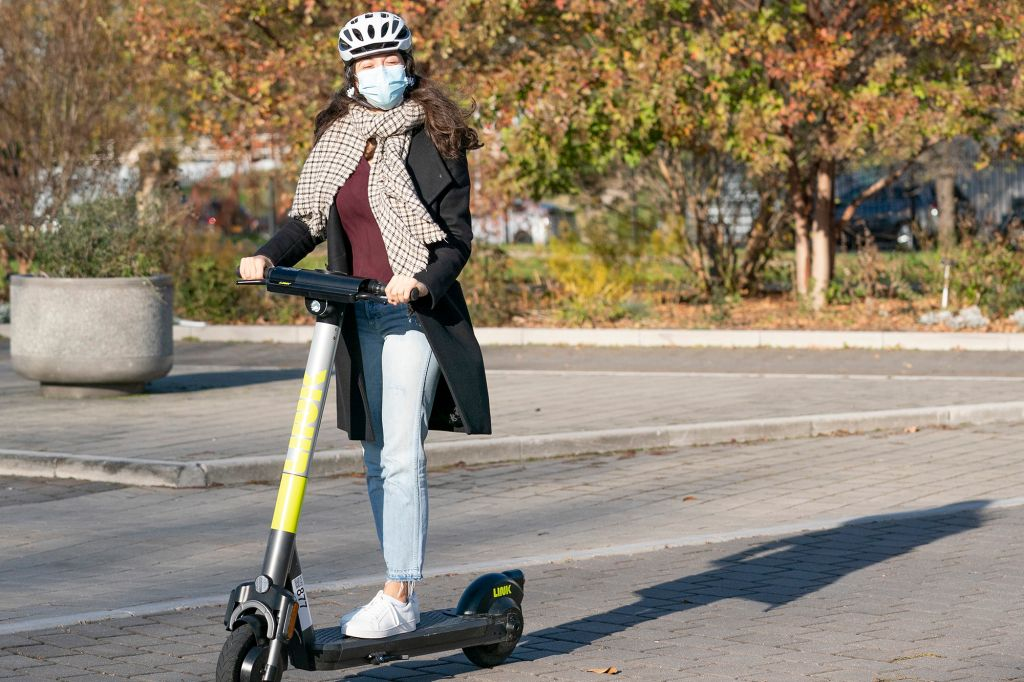scooter: (213, 257, 528, 682)
with helmet: (333, 4, 422, 113)
